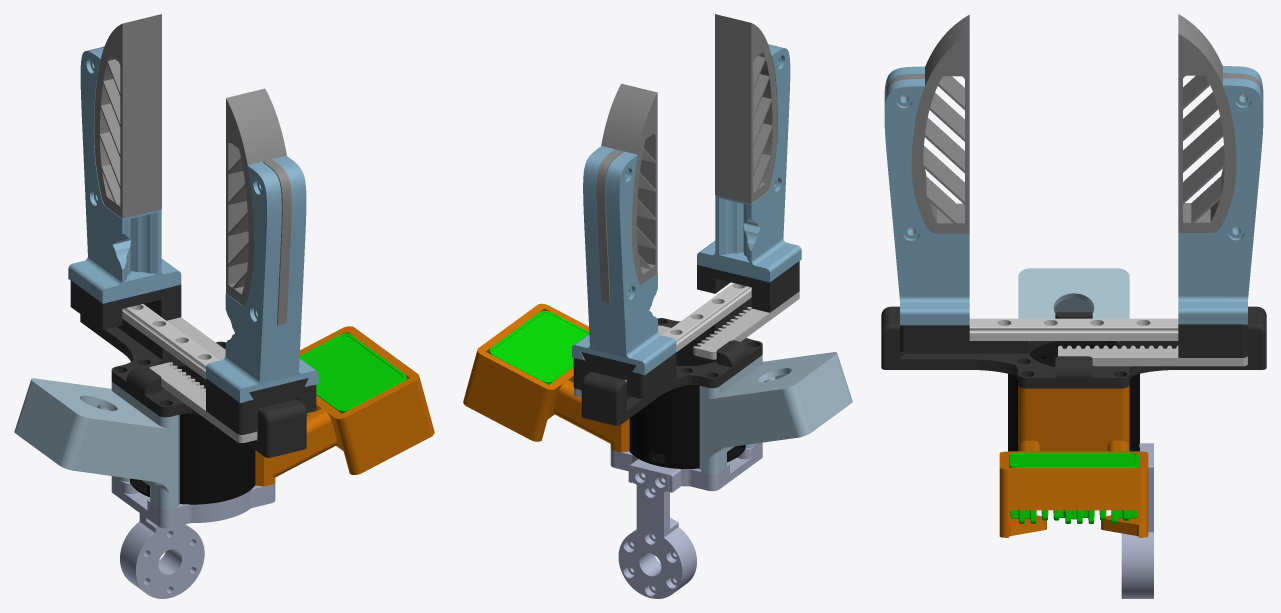
The model's file is right_arm_l7.glb.
3 renders of one model, left to right at view 1: azimuth 30°, elevation 25°; view 2: azimuth 150°, elevation 25°; view 3: azimuth 270°, elevation 25°, orthographic. The views are drawn at different scales.
Parts seen in each view (by area): view 1: world; view 2: world; view 3: world.
Boxes of the visible parts, box(x1,y1,x2,y2) form: world: box(14, 14, 434, 598); world: box(463, 14, 852, 598); world: box(881, 14, 1266, 598).
Size of the model in its own units: 185 by 272 by 166.
